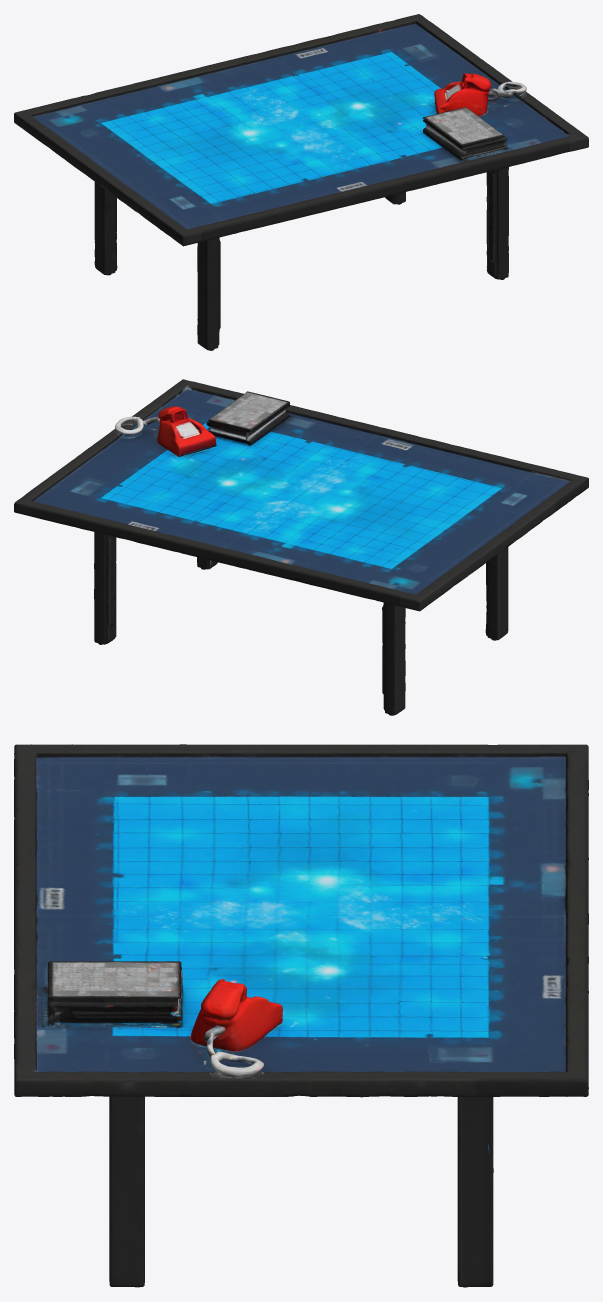
The model's file is technology.glb.
3 views of the same model, one above another, from view 1: azimuth 30°, elevation 25°; view 2: azimuth 150°, elevation 25°; view 3: azimuth 270°, elevation 25° (orthographic). The views are drawn at different scales.
Bounding box in the file's own units: 62390 × 26232 × 45107.
1 material, 1 textured.
